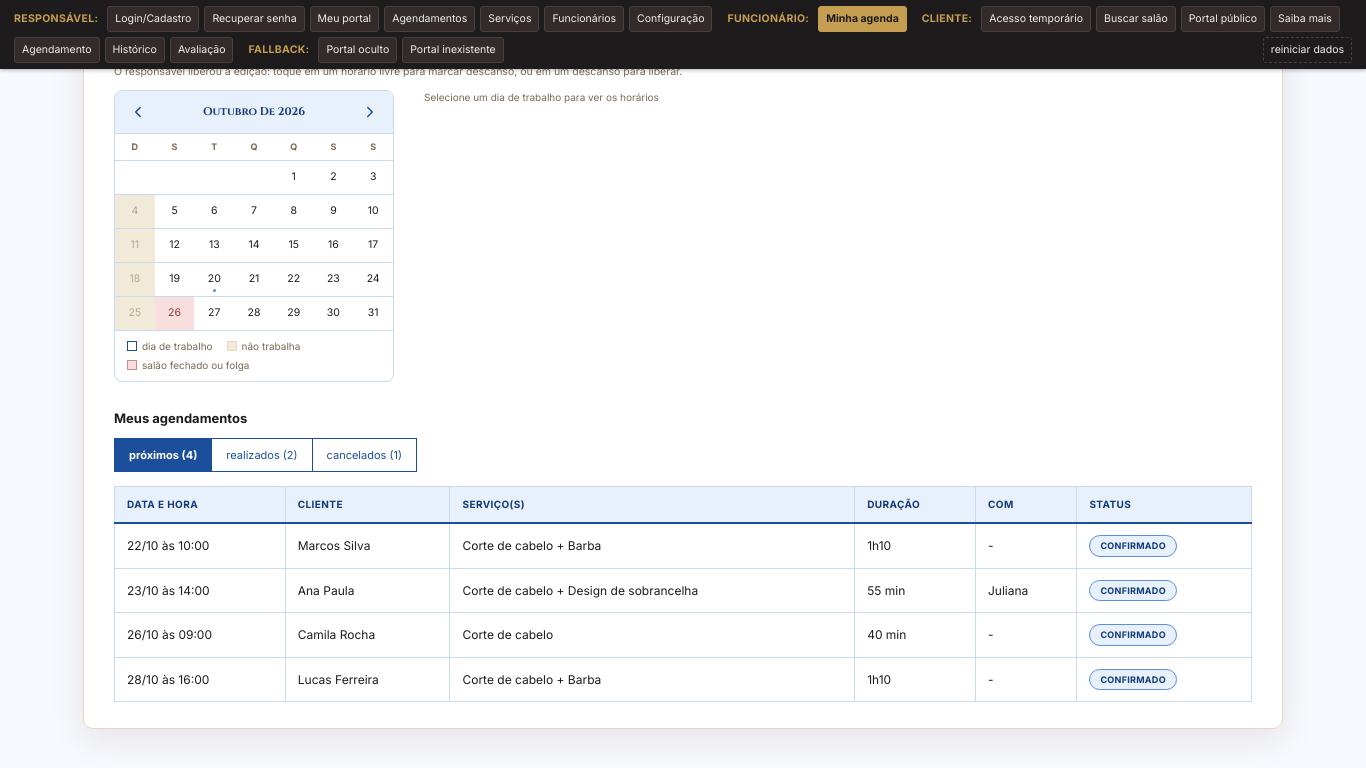
it: tela do funcionario › mostra perfil, indicadores e a lista de agendamentos com abas
(page scrolled)
Expected: the text "Marcos Silva" is shown, [285,523,450,568]
Expected: the text "Lucas Ferreira" is shown, [285,657,450,702]
Click the button "realizados (2)": (262, 455) [211,438,313,472]
(page scrolled)
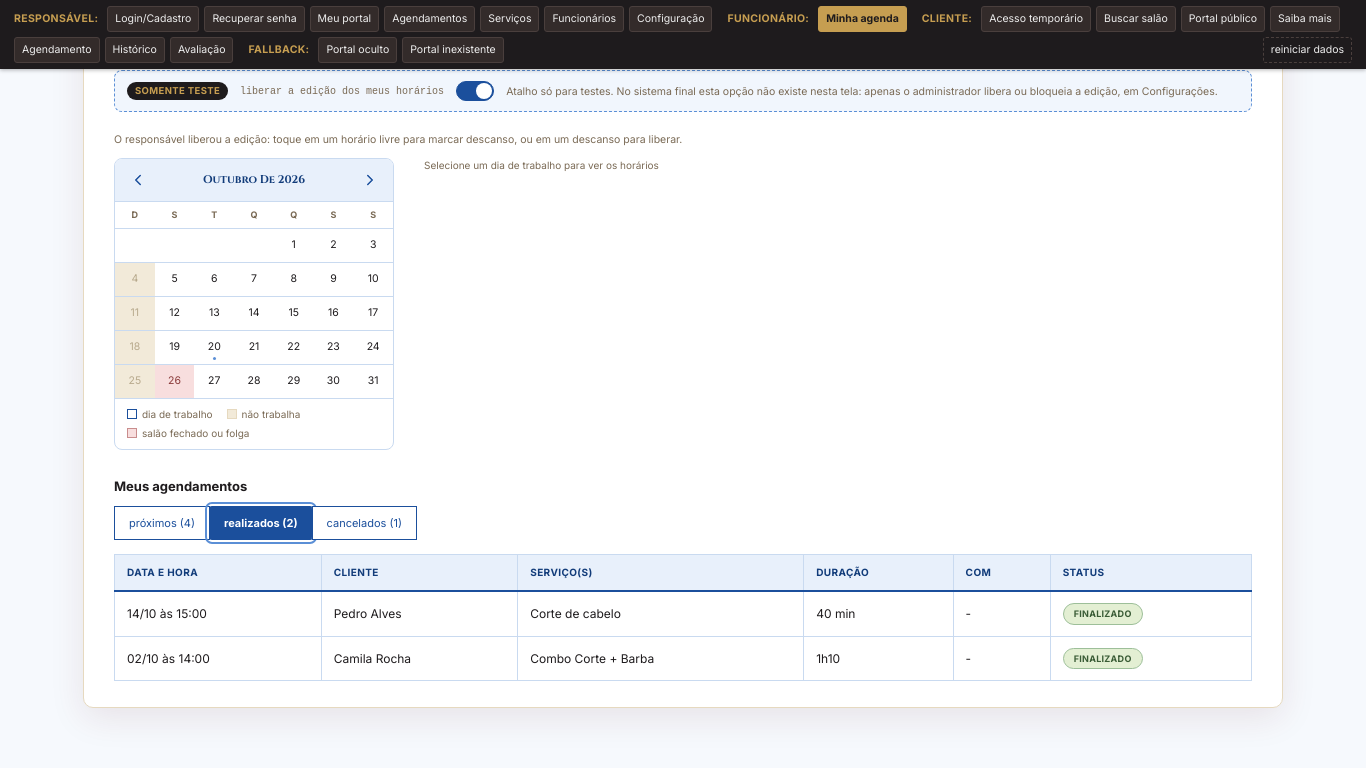
Expected: the text "Pedro Alves" is shown, [321,591,518,636]
Click the button "cancelados (1)": (364, 523) [312,506,417,540]
(page scrolled)
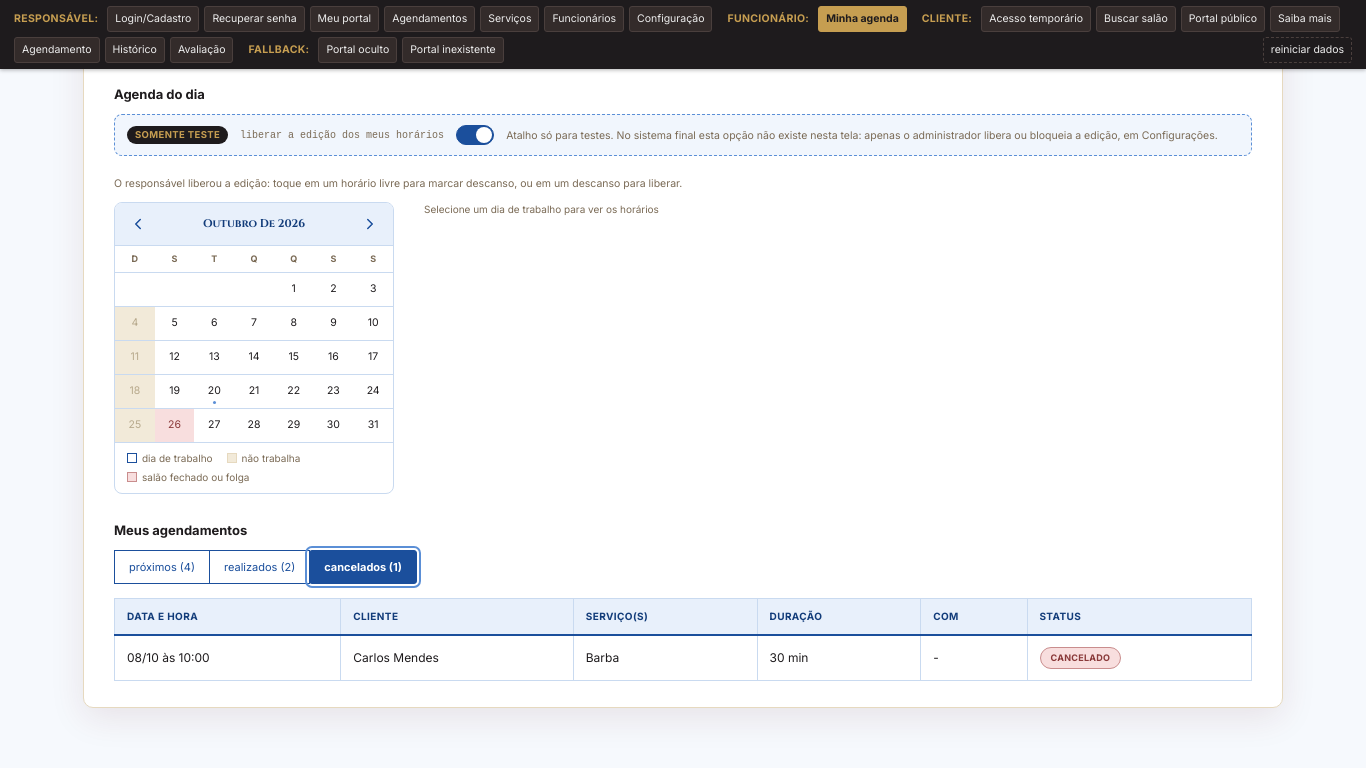
Click the text "Carlos Mendes": (457, 658) [341,635,573,680]
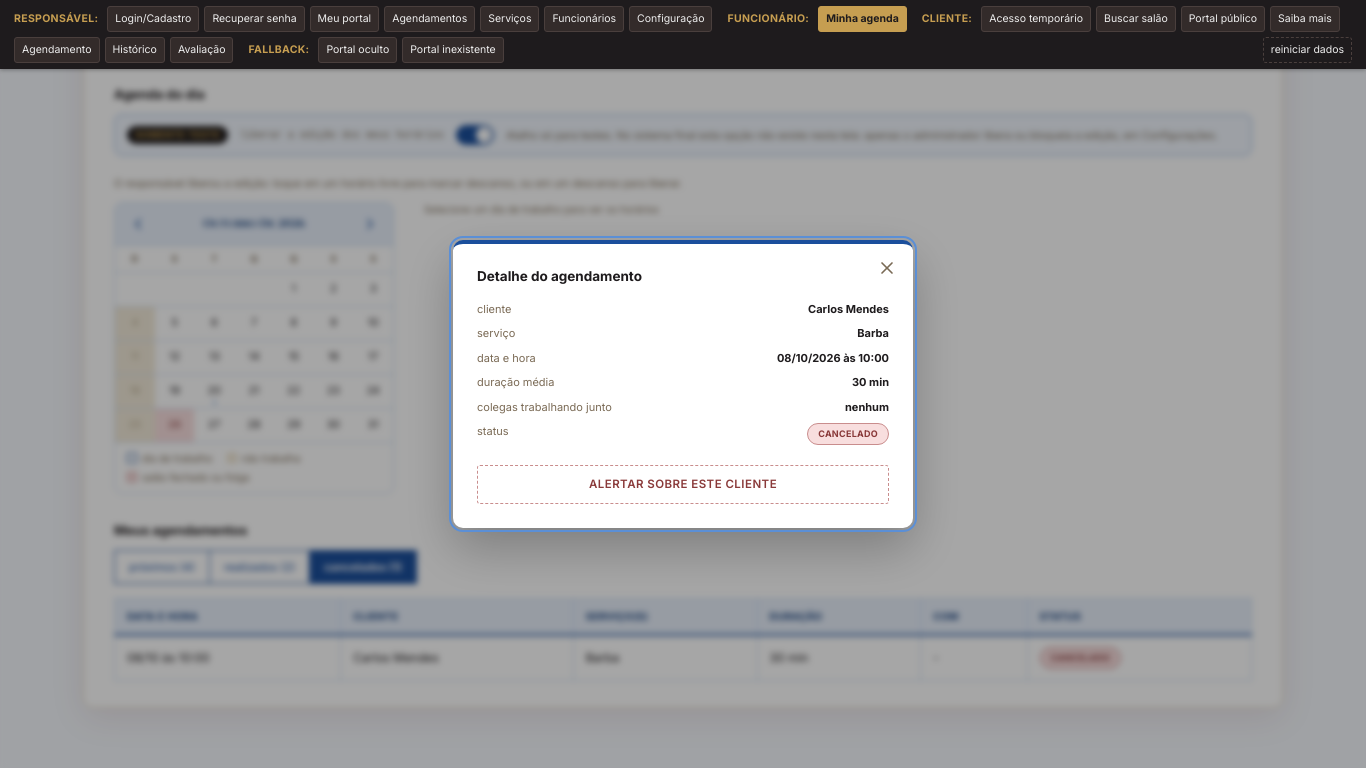
Expected: the text "Carlos Mendes" is shown, [808,301,889,318]
Expected: the button "Alertar sobre este cliente" is shown, [477,465,889,504]
